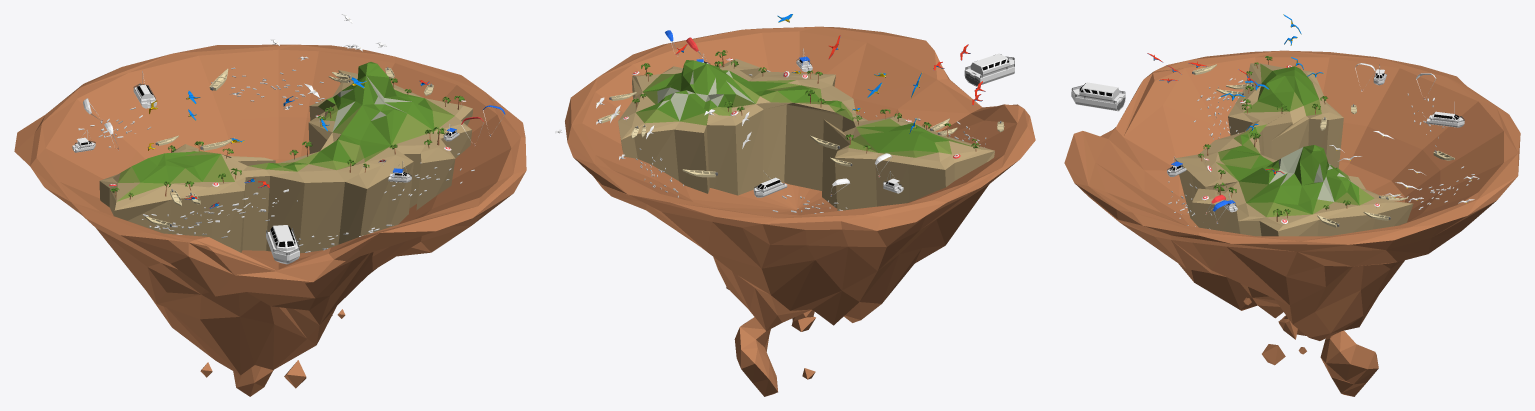
File: solid_island.fbx
3 renders of one model, left to right at view 1: azimuth 30°, elevation 25°; view 2: azimuth 150°, elevation 25°; view 3: azimuth 270°, elevation 25°, orthographic. The views are drawn at different scales.
Parts seen in each view (by area): view 1: big_rock, beach_sand, green, light_green, little_rock_1, Cube_29, rocks_2; view 2: big_rock, beach_sand, green, light_green, little_rock_1, Cube_29, rocks_2; view 3: big_rock, beach_sand, green, little_rock_1, light_green, Cube_29, rocks_2, Cube_33.
Part boxes in pixels (x1,y1,x2,y2): big_rock: [14, 44, 526, 375]; beach_sand: [99, 70, 472, 253]; green: [132, 62, 434, 183]; light_green: [117, 98, 454, 201]; little_rock_1: [233, 360, 306, 396]; Cube_29: [266, 225, 299, 264]; rocks_2: [332, 73, 411, 131]; big_rock: [565, 26, 1035, 331]; beach_sand: [618, 58, 994, 210]; green: [637, 60, 948, 152]; light_green: [636, 73, 981, 157]; little_rock_1: [734, 310, 815, 396]; Cube_29: [964, 53, 1014, 86]; rocks_2: [657, 71, 754, 120]; big_rock: [1064, 50, 1520, 340]; beach_sand: [1175, 63, 1413, 236]; green: [1221, 66, 1359, 214]; little_rock_1: [1262, 315, 1378, 396]; light_green: [1216, 63, 1374, 217]; Cube_29: [1071, 82, 1125, 111]; rocks_2: [1269, 147, 1356, 201]; Cube_33: [1426, 111, 1464, 127].
Bounding box in the file's own units: 899 × 705 × 899.
